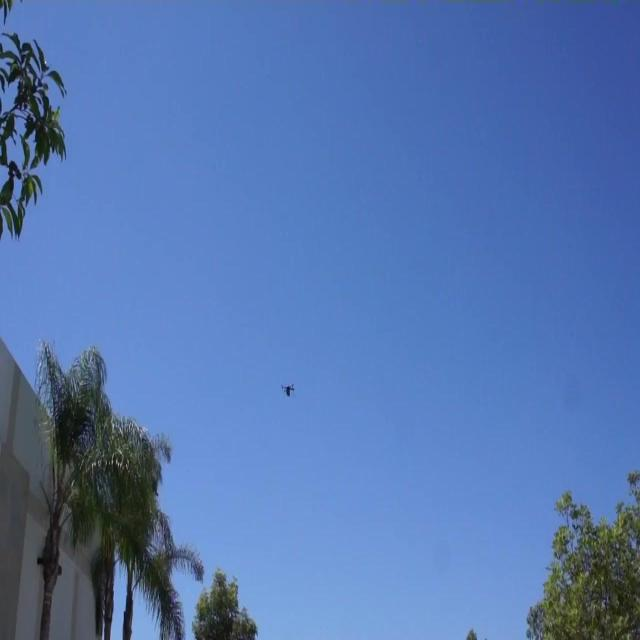drone: (278, 380, 296, 399)
